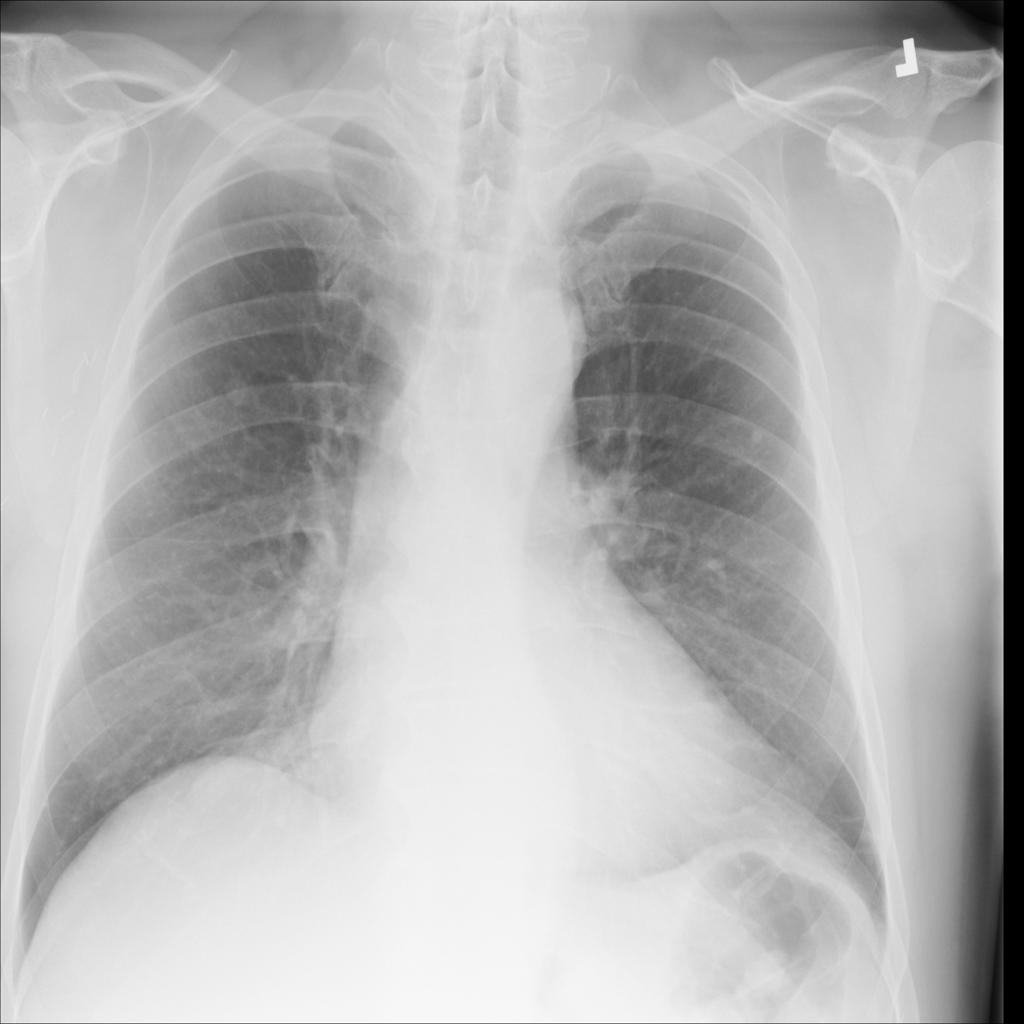nodule: (725, 395, 791, 471), (213, 359, 262, 414)
